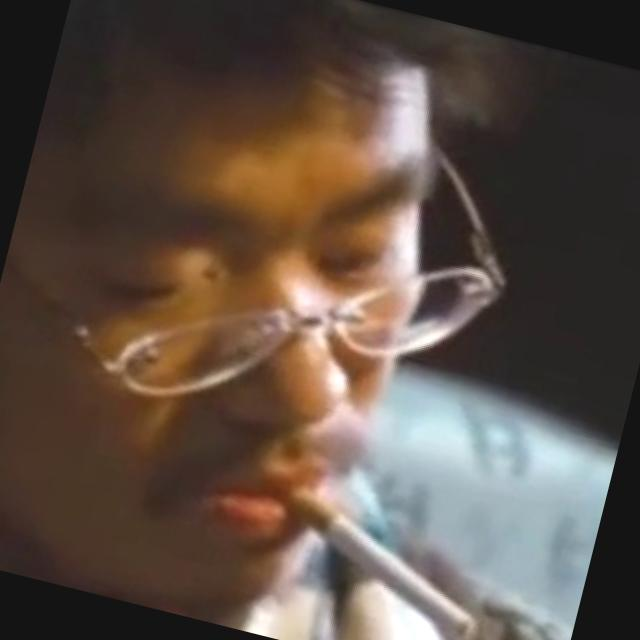cigarette: (296, 496, 499, 640)
